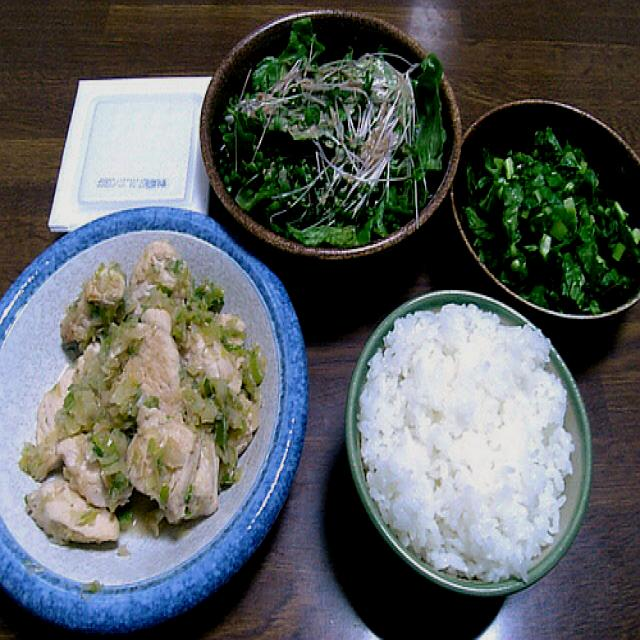rice: (380, 330, 554, 566)
